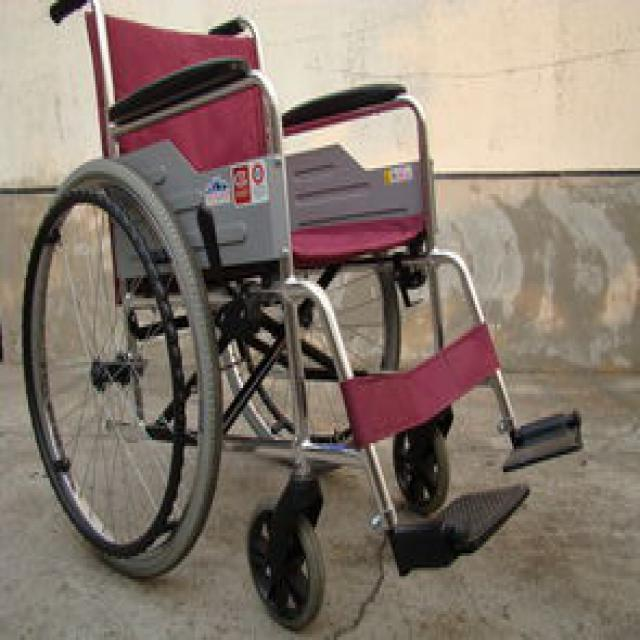wheelchair: (30, 0, 601, 620)
